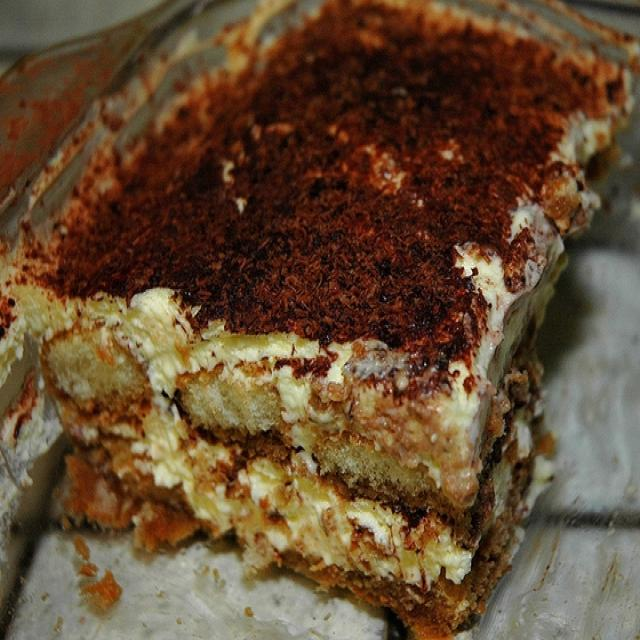蛋糕甜品: (30, 42, 625, 607)
